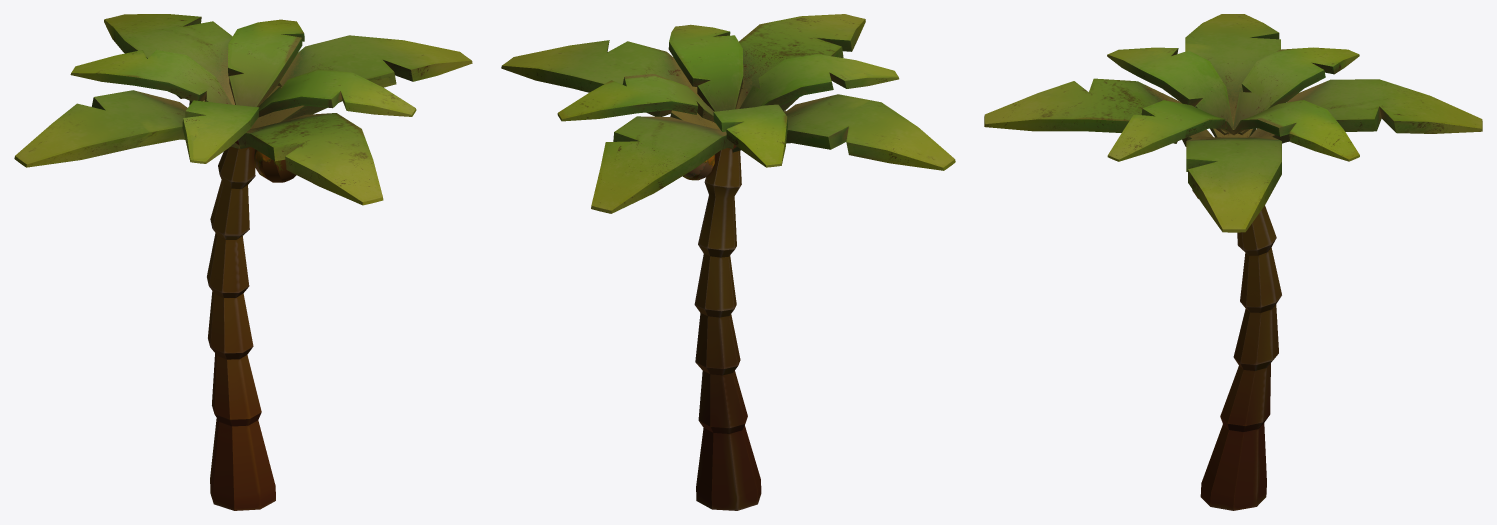
File: PalmTree.fbx
3 renders of one model, left to right at view 1: azimuth 30°, elevation 25°; view 2: azimuth 150°, elevation 25°; view 3: azimuth 270°, elevation 25°, orthographic. The views are drawn at different scales.
Parts seen in each view (by area): view 1: PalmTree; view 2: PalmTree; view 3: PalmTree.
Part boxes in pixels (bbox=[...]): PalmTree: bbox=[14, 14, 472, 510]; PalmTree: bbox=[501, 14, 955, 510]; PalmTree: bbox=[984, 14, 1482, 510].
Bounding box in the file's own units: 1518 × 1372 × 1518.
Materials: 1 (1 with a texture image).
